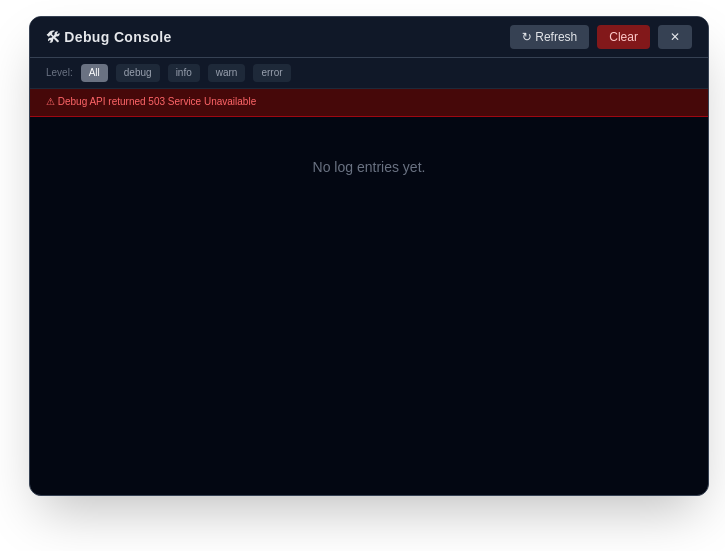
Scenario: DebugPanel — safe failure › clears the error banner after a subsequent successful fetch
This screenshot has width=725, height=551.
expect the text "⚠ Debug API returned 503 Service Unavailable" is shown: met, box x1=30 y1=89 x2=708 y2=117
# Trigger a successful refresh
Step 1. Click the button "↻ Refresh" → (550, 37), box x1=510 y1=25 x2=589 y2=49
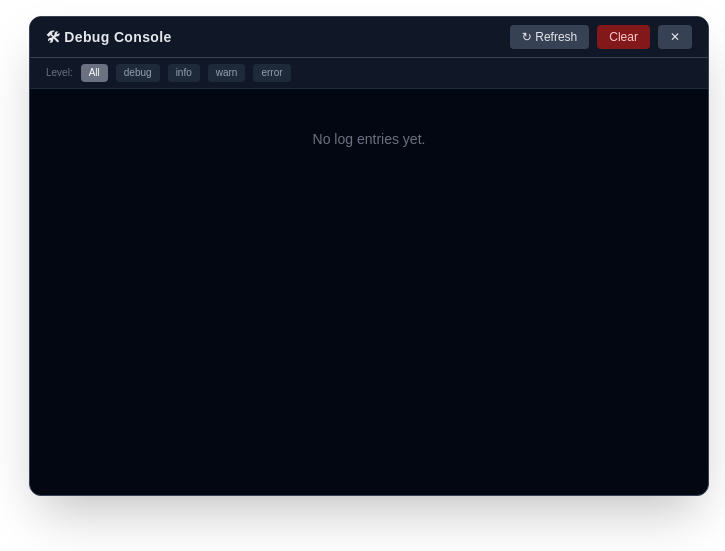
expect the text "503" is gone: met
